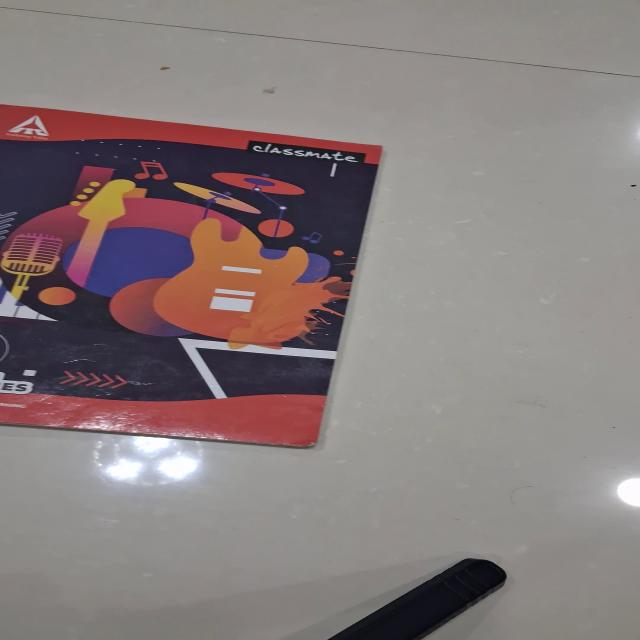paper: (0, 104, 382, 448)
